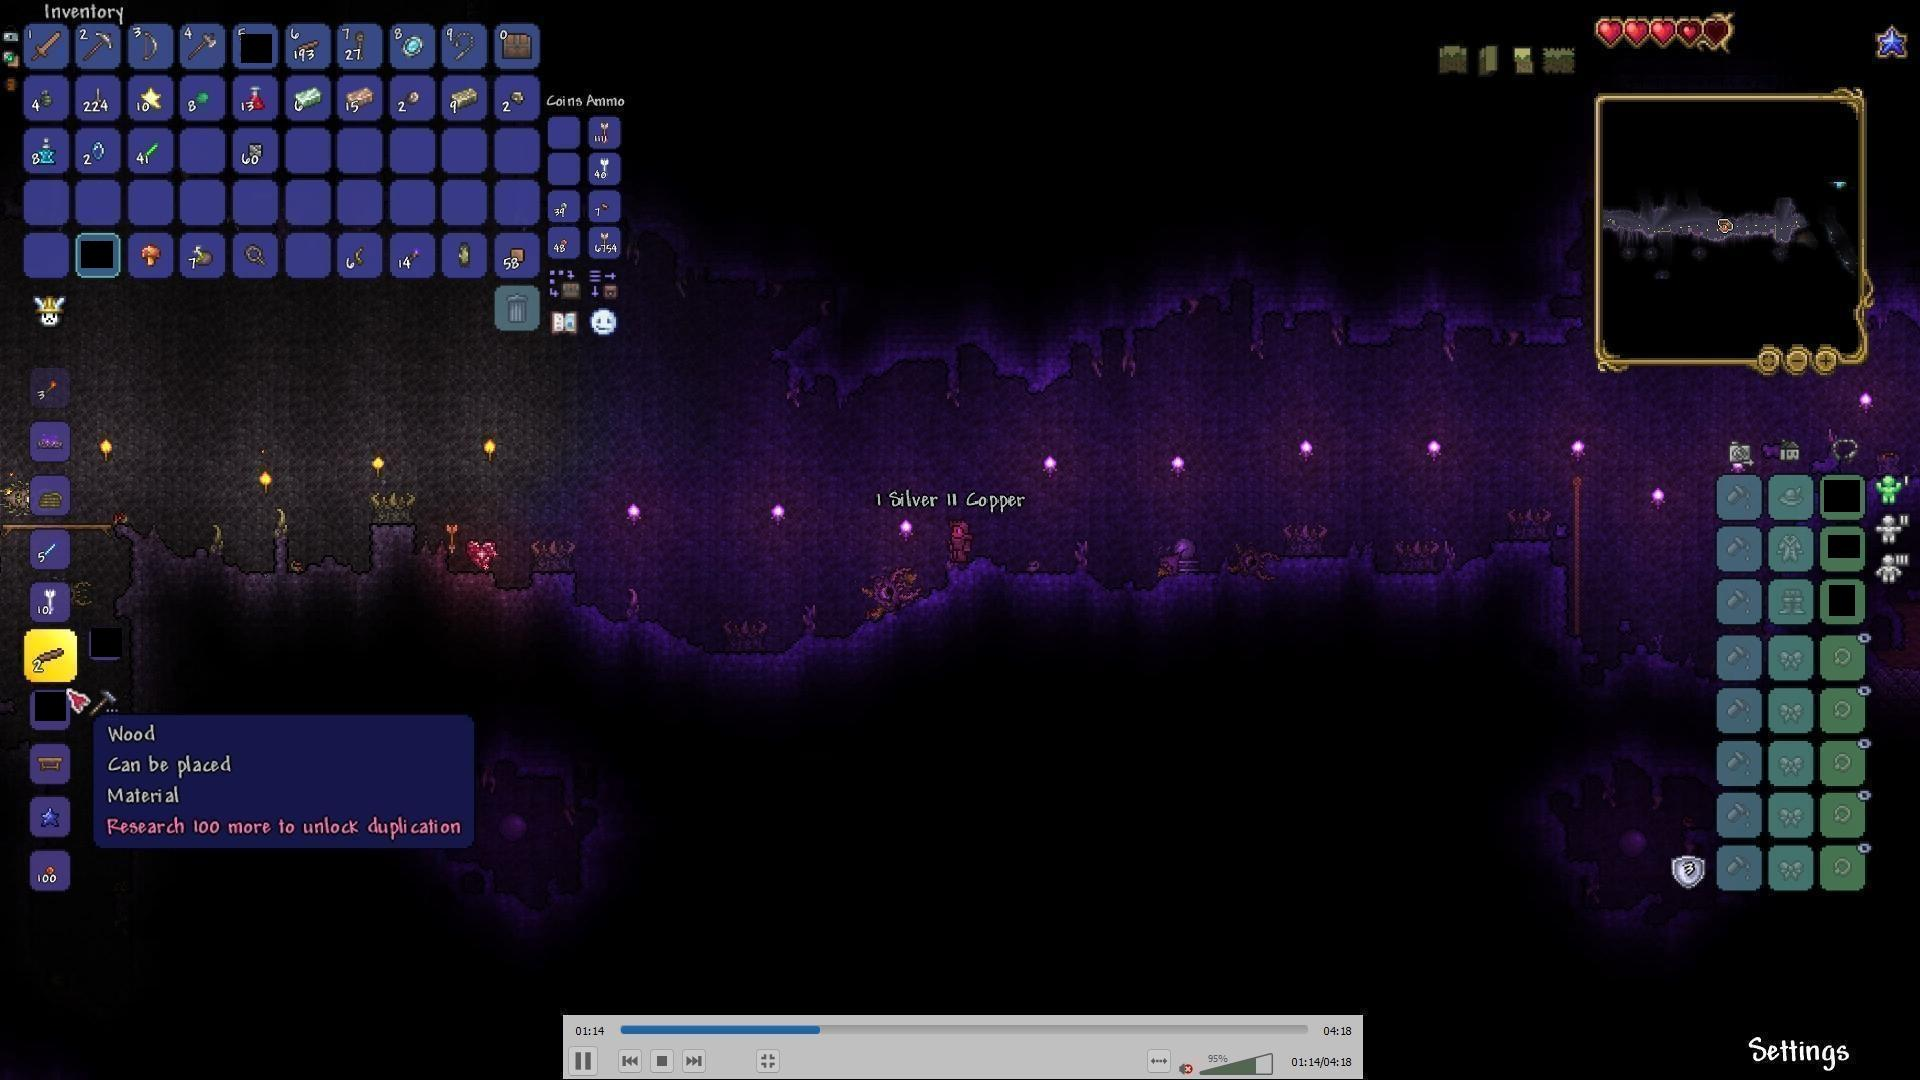workbench: (33, 752, 69, 778)
